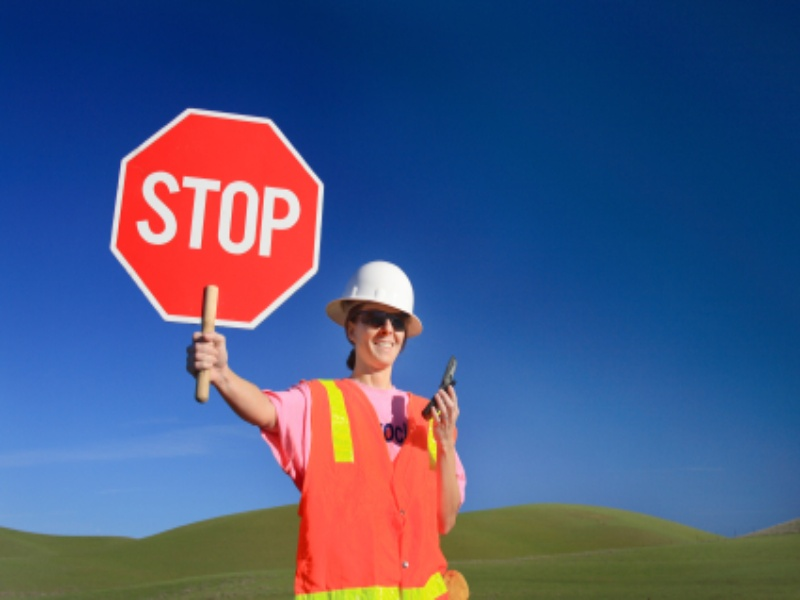stop sign: (106, 104, 329, 336)
